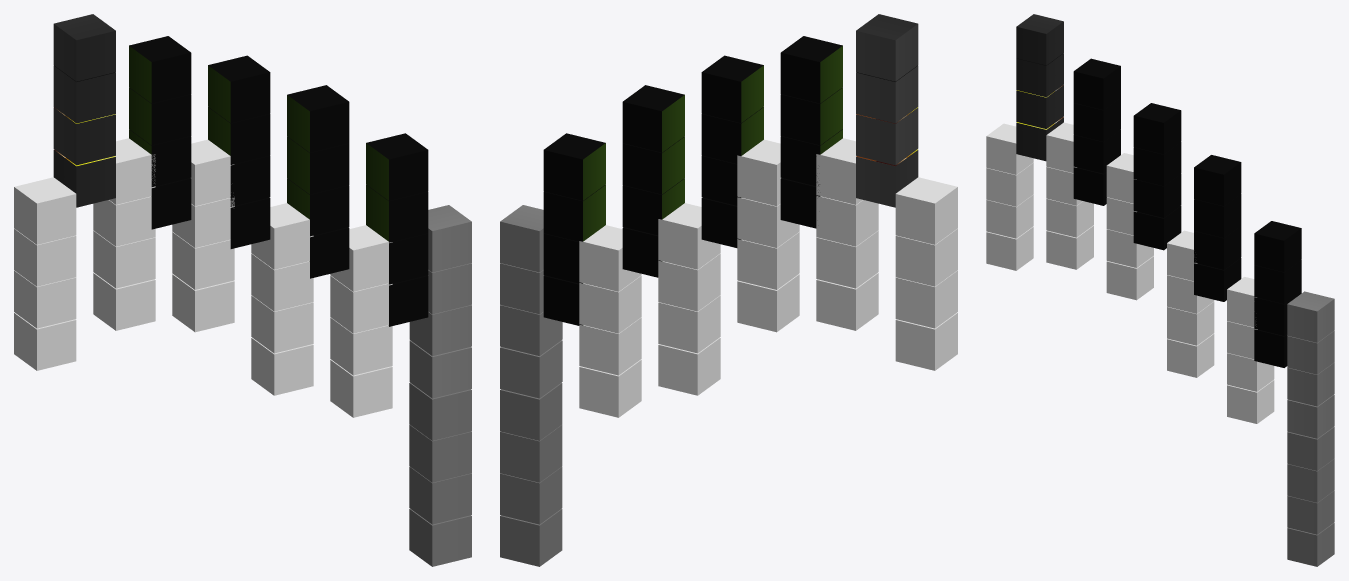
File: SSRFlag.fbx
3 renders of one model, left to right at view 1: azimuth 30°, elevation 25°; view 2: azimuth 150°, elevation 25°; view 3: azimuth 330°, elevation 25°, orthographic. The views are drawn at different scales.
Parts seen in each view (by area): view 1: Cube.013, Cube.015, Cube.001, Cube.007, Cube.005, Cube.021, Cube.011, Cube.017, Cube.009, Cube.023, Cube.003, Cube.019; view 2: Cube.013, Cube.015, Cube.007, Cube.001, Cube.005, Cube.011, Cube.021, Cube.009, Cube.017, Cube.003, Cube.023, Cube.019; view 3: Cube.019, Cube.003, Cube.021, Cube.015, Cube.013, Cube.001, Cube.017, Cube.023, Cube.007, Cube.011, Cube.005, Cube.009.
Part boxes in pixels (box(x1,y1,x2,y2)): Cube.013: box(14, 177, 76, 370); Cube.015: box(53, 14, 115, 207); Cube.001: box(409, 382, 471, 566); Cube.007: box(251, 203, 313, 395); Cube.005: box(330, 225, 392, 417); Cube.021: box(287, 85, 349, 278); Cube.011: box(93, 138, 155, 330); Cube.017: box(129, 36, 191, 229); Cube.009: box(172, 139, 234, 332); Cube.023: box(366, 133, 428, 326); Cube.003: box(409, 205, 471, 398); Cube.019: box(208, 55, 270, 248); Cube.013: box(895, 177, 957, 370); Cube.015: box(856, 14, 918, 207); Cube.007: box(658, 203, 720, 395); Cube.001: box(500, 382, 562, 566); Cube.005: box(579, 225, 641, 417); Cube.011: box(816, 138, 878, 330); Cube.021: box(622, 85, 684, 277); Cube.009: box(737, 139, 799, 332); Cube.017: box(780, 36, 842, 228); Cube.003: box(500, 205, 562, 398); Cube.023: box(543, 133, 605, 325); Cube.019: box(701, 55, 763, 247); Cube.019: box(1133, 103, 1181, 250); Cube.003: box(1287, 291, 1334, 438); Cube.021: box(1194, 155, 1241, 301); Cube.015: box(1016, 14, 1063, 161); Cube.013: box(986, 123, 1033, 270); Cube.001: box(1287, 427, 1334, 566); Cube.017: box(1073, 58, 1120, 205); Cube.023: box(1254, 221, 1301, 367); Cube.007: box(1167, 230, 1214, 377); Cube.011: box(1046, 122, 1093, 269); Cube.005: box(1227, 277, 1274, 423); Cube.009: box(1106, 153, 1153, 300).
Bounding box in the file's own units: 2200 × 2965 × 200.
